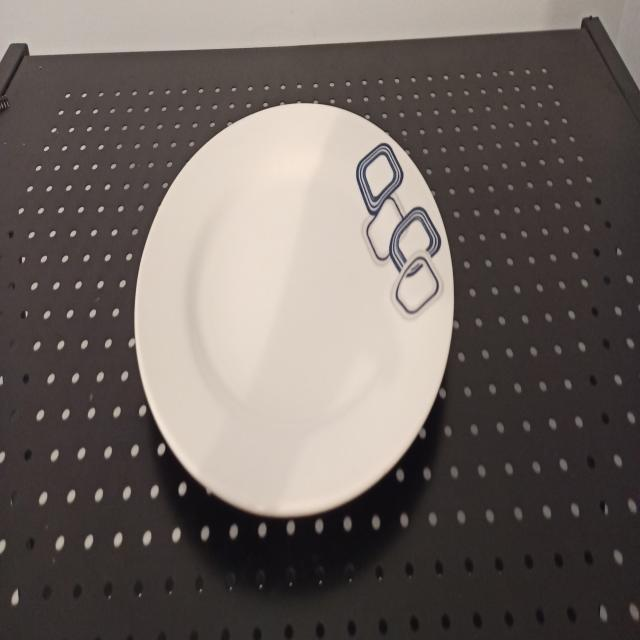ceramic plate: (121, 84, 462, 535)
